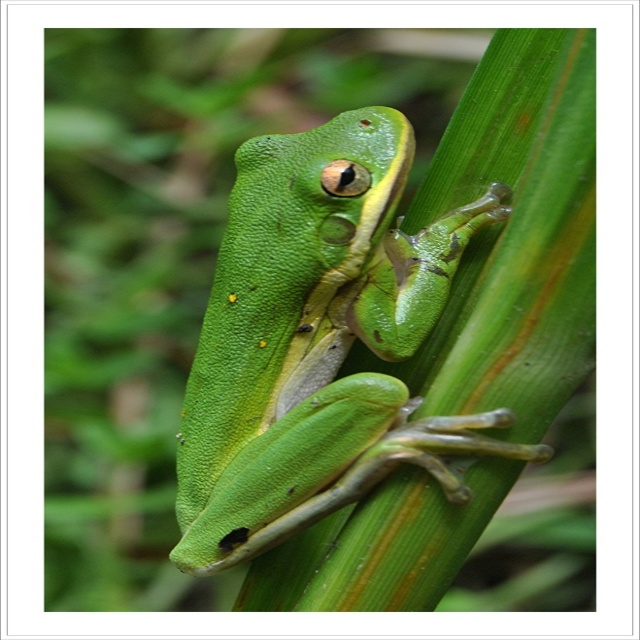Frog: (169, 106, 555, 577)
